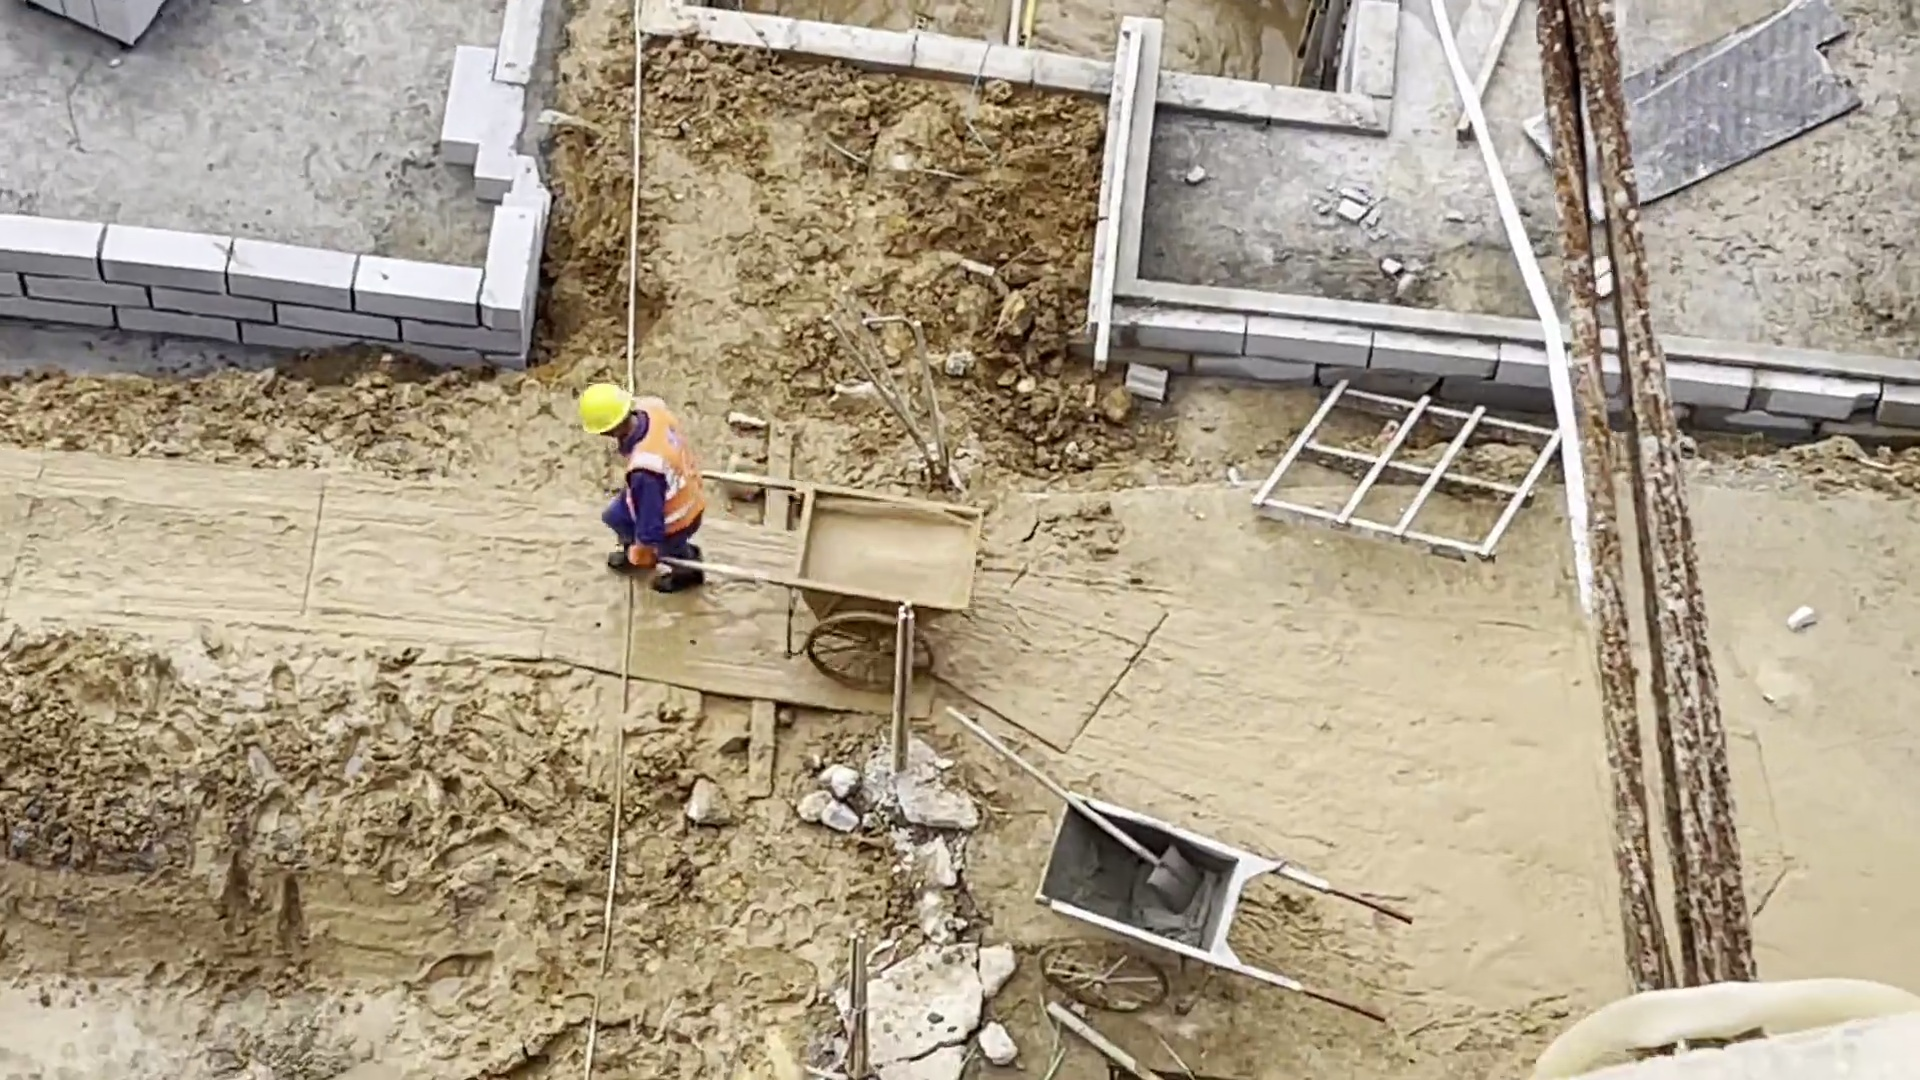brick: (26, 1, 175, 50)
handcart: (1031, 788, 1420, 1021), (675, 461, 980, 686)
helmet: (575, 382, 634, 435)
person: (571, 383, 713, 597)
vest: (613, 394, 702, 534)
